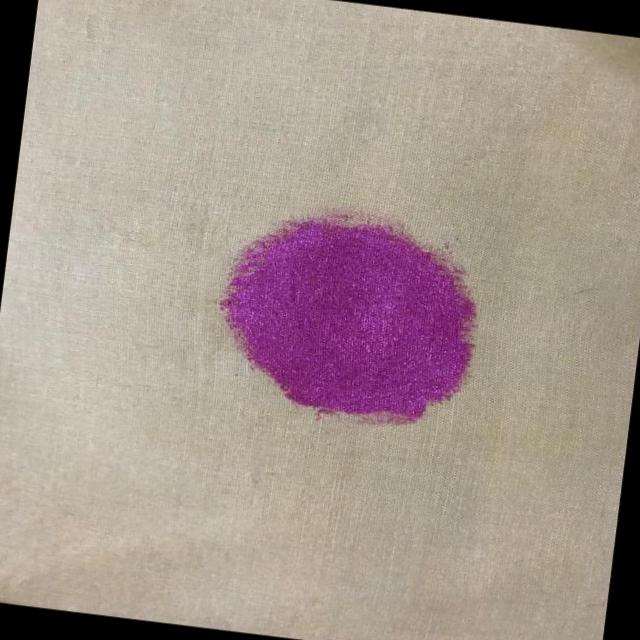Stain: (205, 193, 491, 439)
